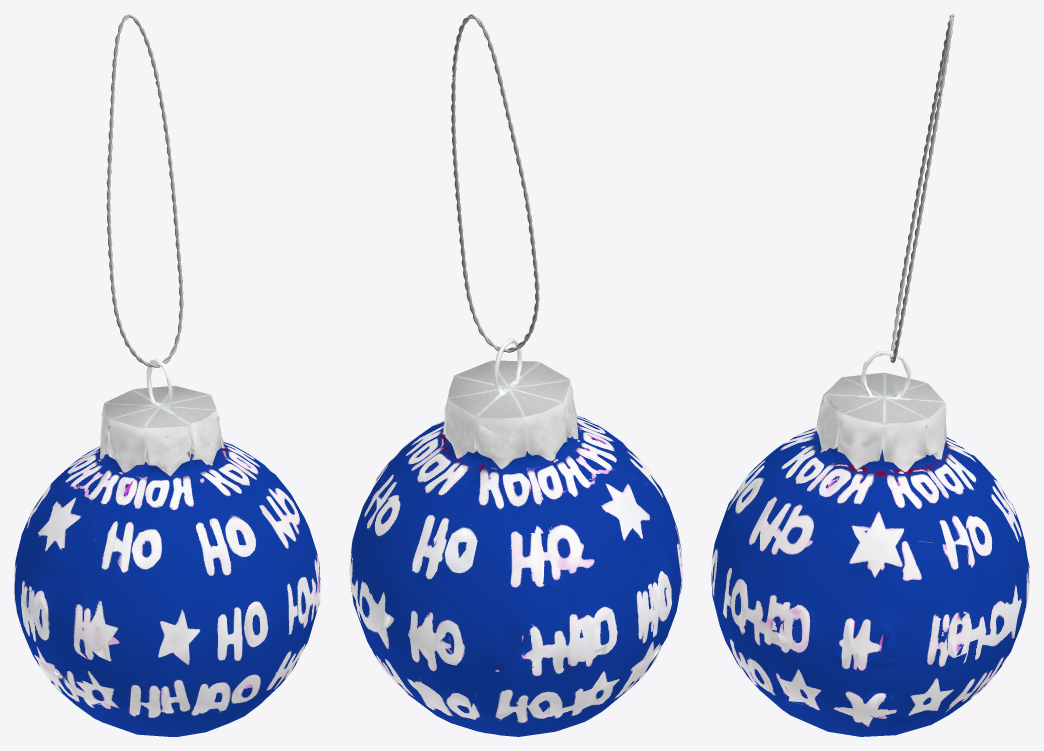
The model's file is Blue_Ho_Ho_Ho.glb.
The picture shows the model from 3 angles, left to right: view 1: azimuth 30°, elevation 25°; view 2: azimuth 150°, elevation 25°; view 3: azimuth 270°, elevation 25°; orthographic projection. The views are drawn at different scales.
Parts seen in each view (by area): view 1: Mesh1.0, GN Instance; view 2: Mesh1.0, GN Instance; view 3: Mesh1.0, GN Instance.
Boxes of the visible parts, <box> form: Mesh1.0: <box>14,358,320,736</box>; GN Instance: <box>106,14,183,367</box>; Mesh1.0: <box>349,338,682,736</box>; GN Instance: <box>451,14,539,352</box>; Mesh1.0: <box>711,350,1029,736</box>; GN Instance: <box>890,14,953,362</box>.
Bounding box in the file's own units: 0.0312 × 0.076 × 0.031.
Materials: 2 (1 with a texture image).
